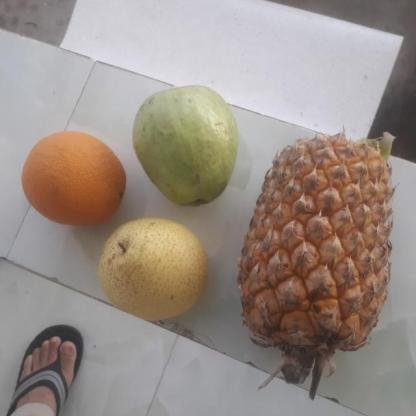guava: (134, 83, 245, 205)
orange: (19, 132, 130, 226)
pear: (94, 219, 212, 321)
pineapple: (245, 141, 400, 350)
